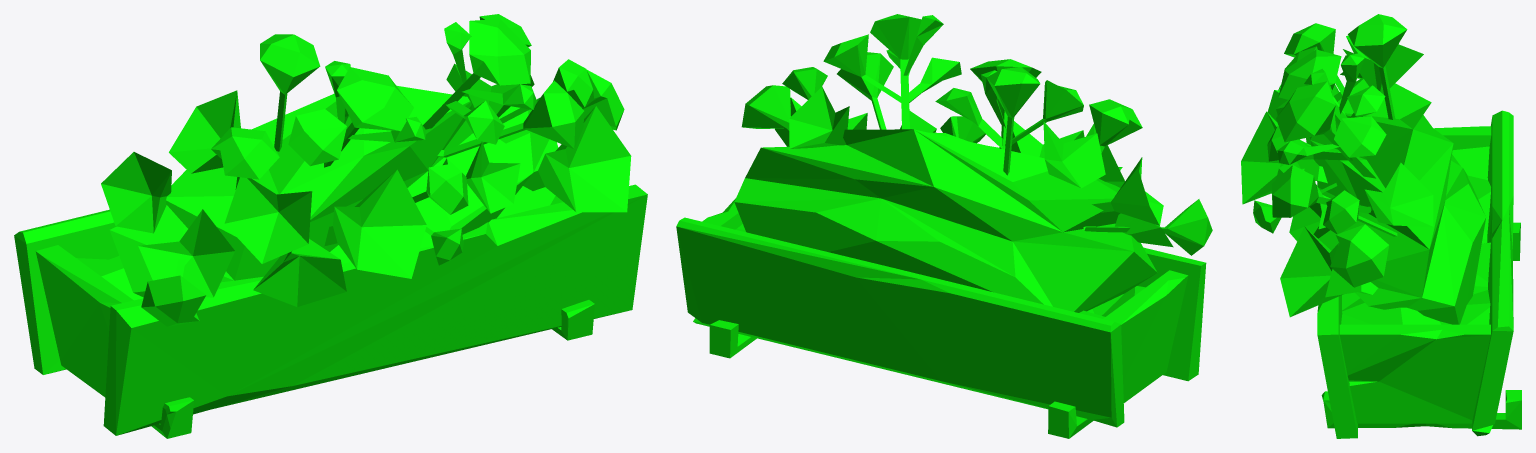
Rendered from SM_Flower_Box_Wooden_Low_Window_Fantasy.fbx.
3 views of the same model, side by side, from view 1: azimuth 30°, elevation 25°; view 2: azimuth 150°, elevation 25°; view 3: azimuth 270°, elevation 25° (orthographic). The views are drawn at different scales.
Parts seen in each view (by area): view 1: flower-box-wooden-low-window-fantasy; view 2: flower-box-wooden-low-window-fantasy; view 3: flower-box-wooden-low-window-fantasy.
Boxes of the visible parts, box(x1,y1,x2,y2) form: flower-box-wooden-low-window-fantasy: box(14, 14, 647, 438); flower-box-wooden-low-window-fantasy: box(676, 14, 1212, 438); flower-box-wooden-low-window-fantasy: box(1241, 14, 1521, 438).
Bounding box in the file's own units: 0.932 × 0.5957 × 0.503.
